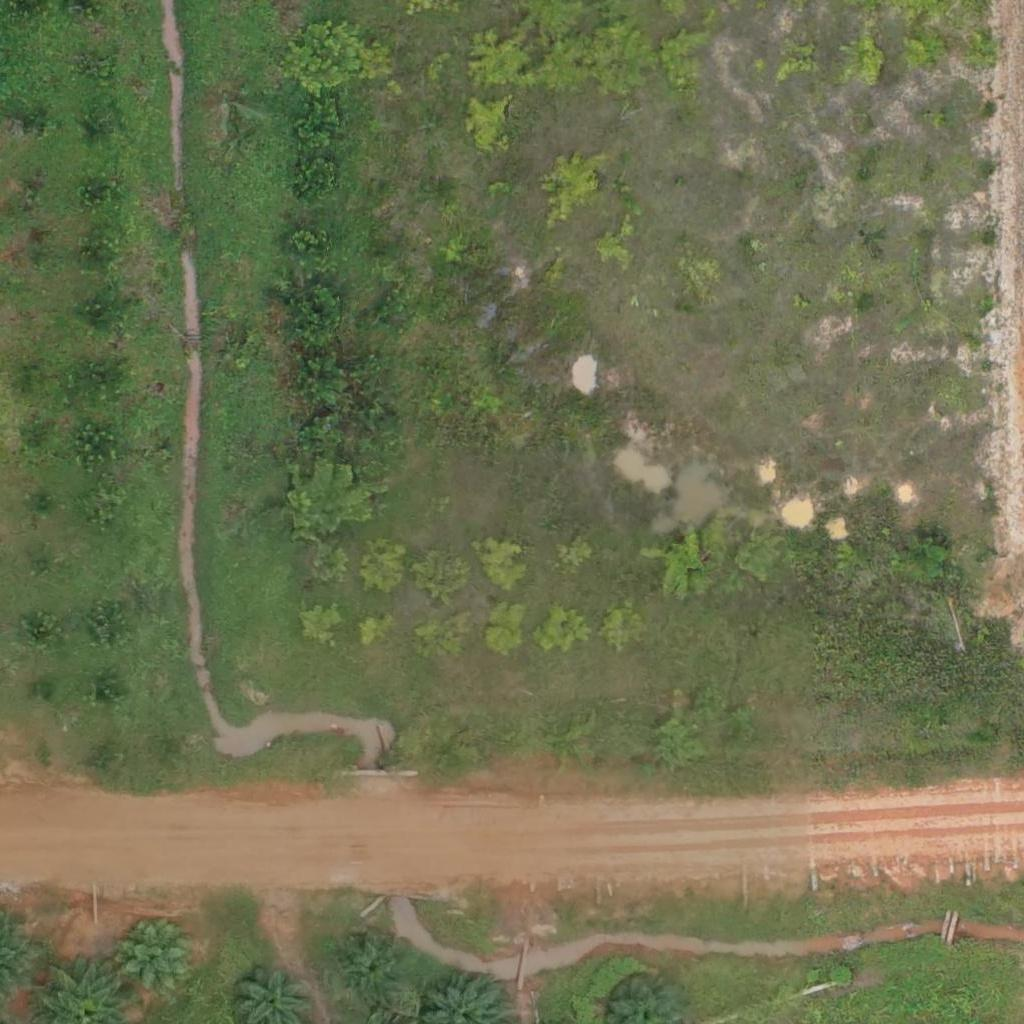Kelapa_Sawit: (119, 915, 206, 1003), (344, 939, 406, 1002)
